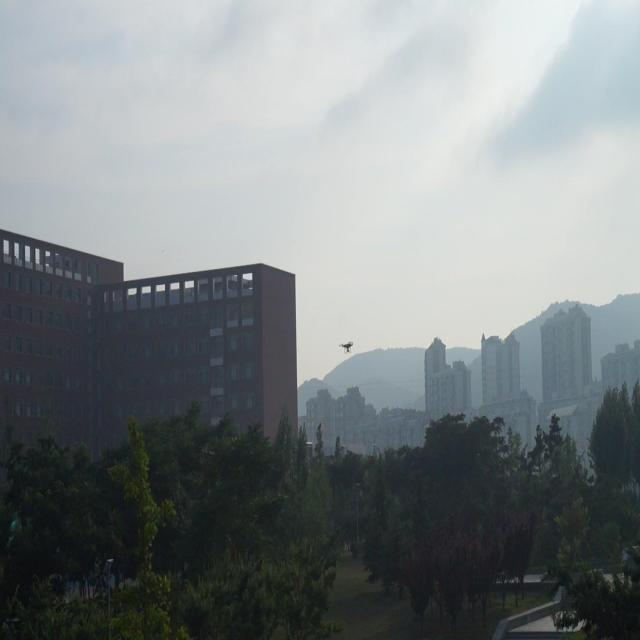drone: (338, 336, 354, 356)
